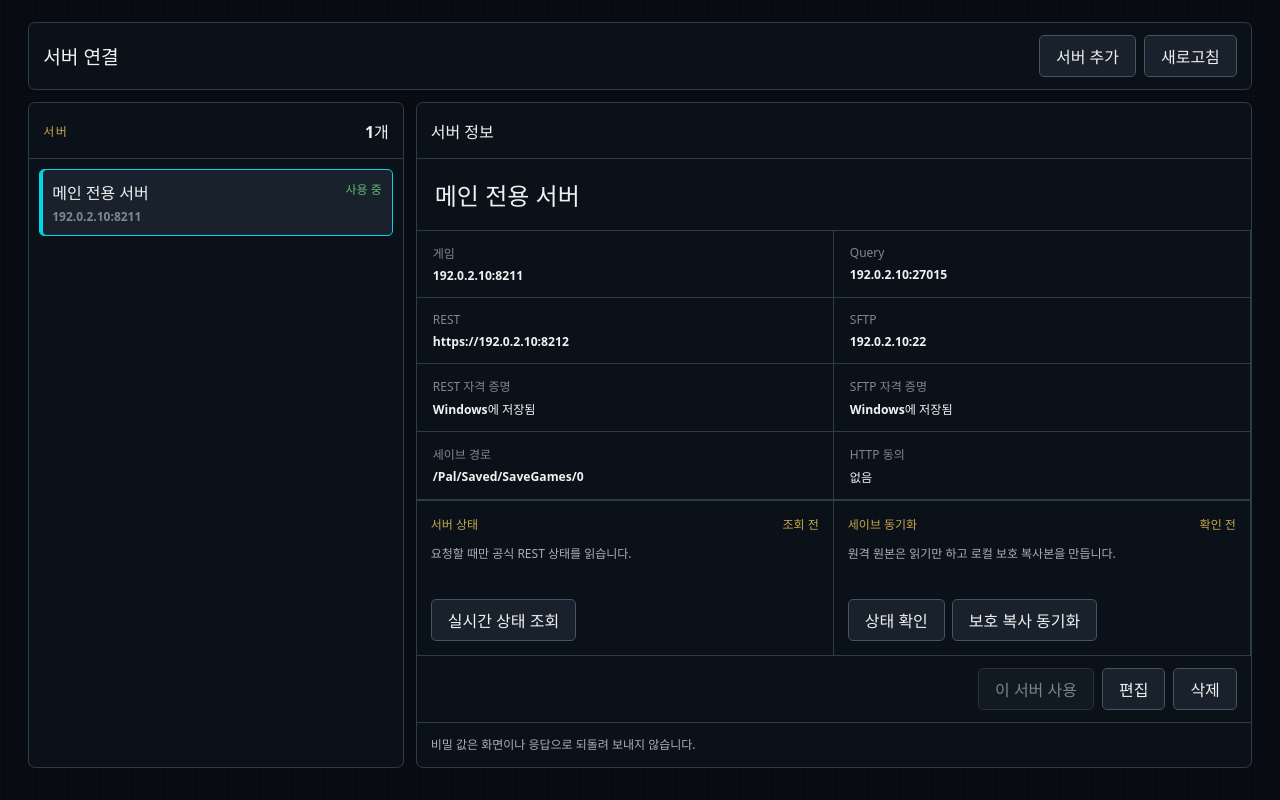
Scenario: ServerProfilesBoard › loads live REST and SFTP status only after explicit actions
The width and height of the screenshot is (1280, 800).
Click the button "실시간 상태 조회". click: click(504, 620)
box: 431,599 -> 576,641
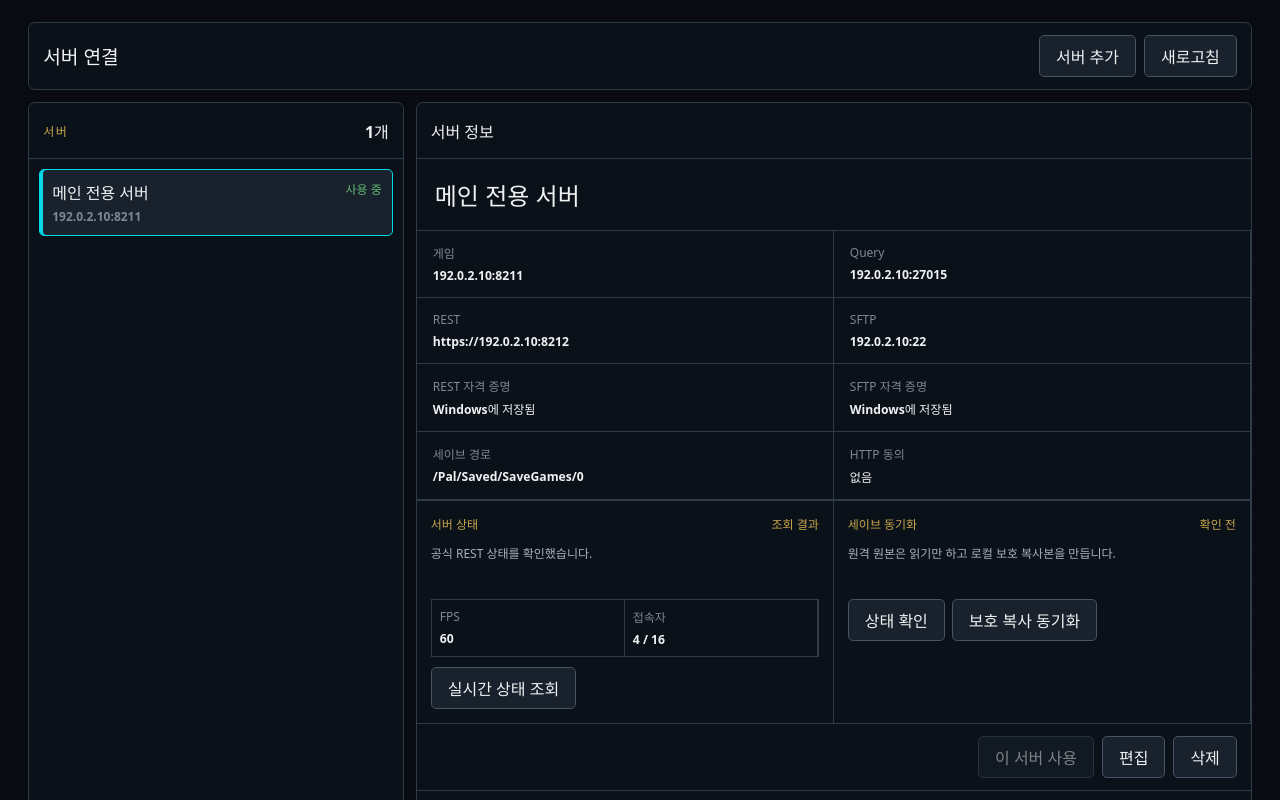
Now the text "공식 REST 상태를 확인했습니다." is shown, box 431,545 -> 592,562
Now the text "60" is shown, box 440,630 -> 454,647
Click the button "상태 확인". click: click(896, 620)
box: 848,599 -> 945,641
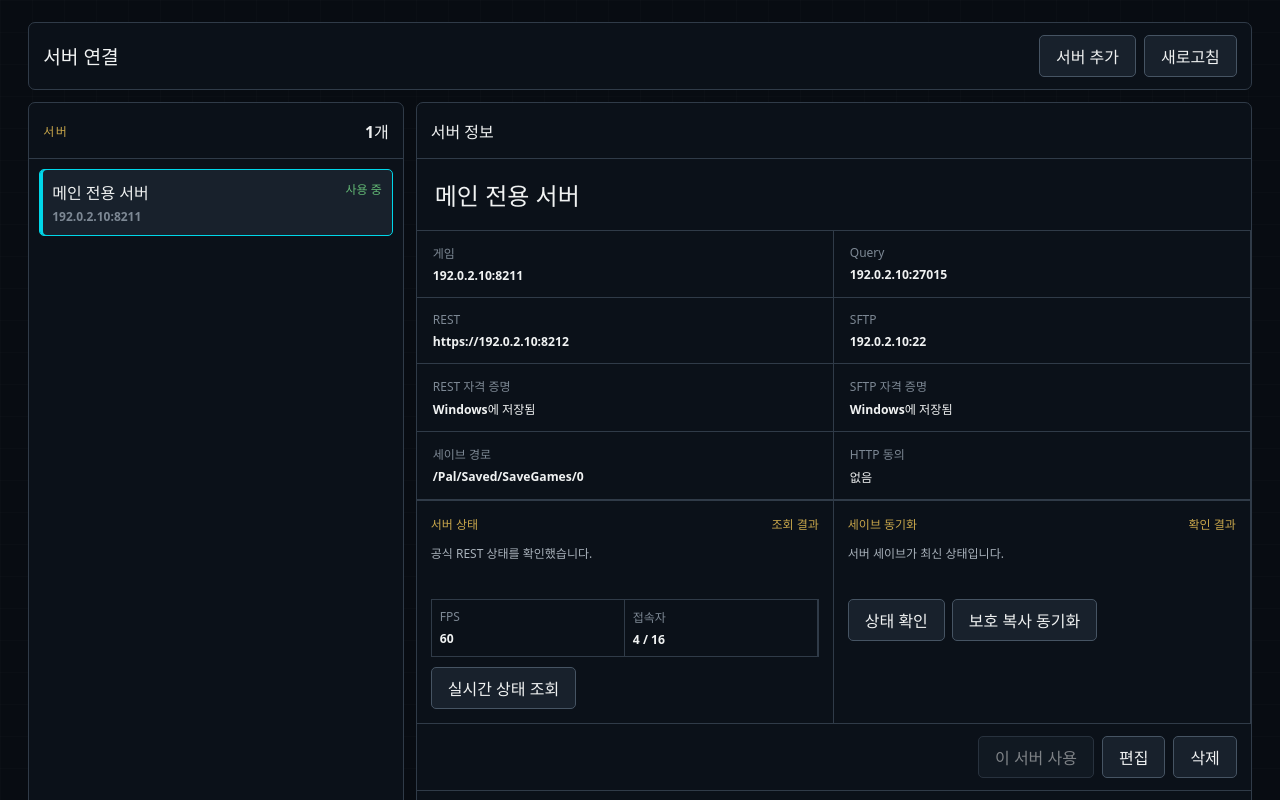
Now the text "서버 세이브가 최신 상태입니다." is shown, box 848,545 -> 1004,562
